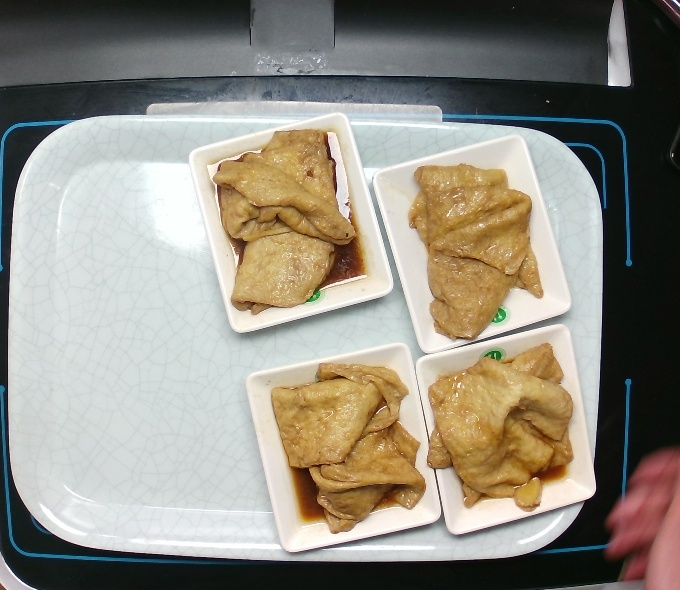wcq-YouDouFu: (204, 125, 373, 319), (271, 356, 426, 535), (424, 345, 579, 524), (398, 158, 545, 345)
